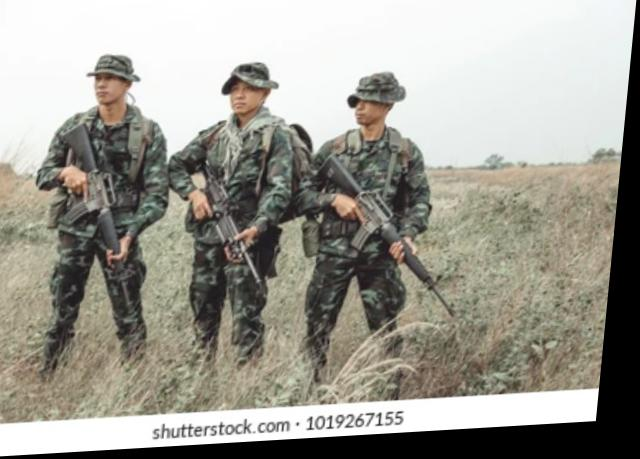other: (27, 46, 187, 344), (302, 66, 439, 355), (184, 61, 309, 346)
